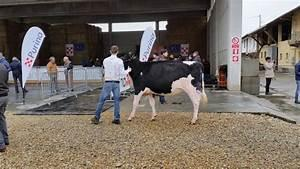cow: (117, 50, 208, 124)
